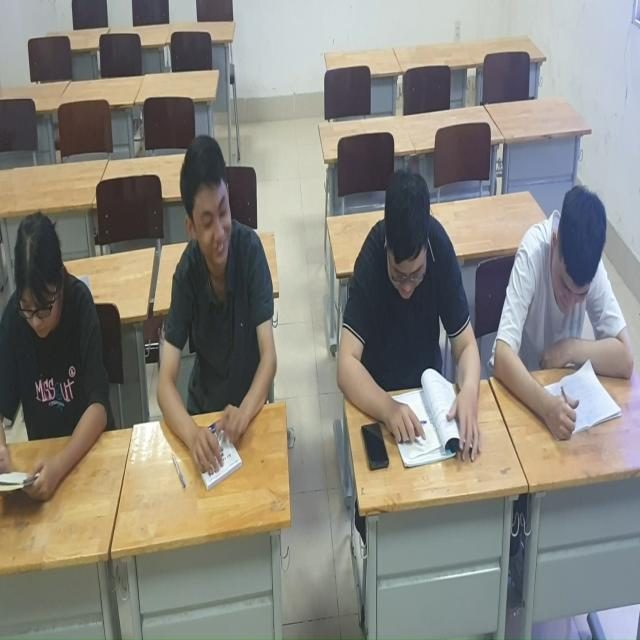read: (327, 145, 485, 490), (141, 128, 283, 479), (486, 156, 636, 461), (1, 204, 128, 502)
